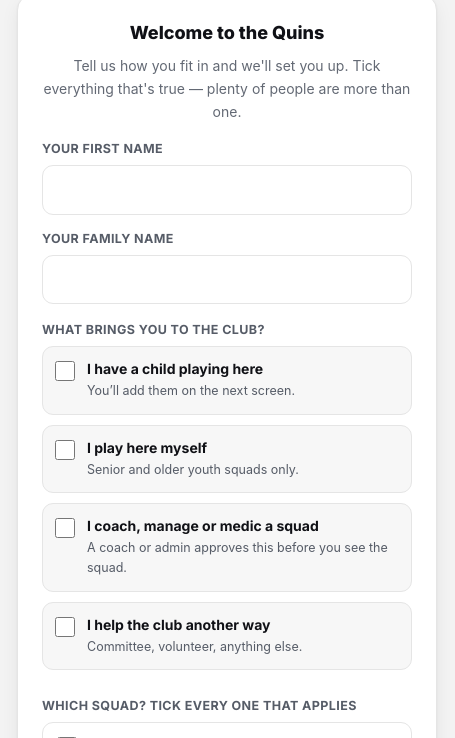
Test case: the name › requires a family name, unlike the sign-in gate
The width and height of the screenshot is (455, 738).
Click the checkbox labelled "child playing here": (65,371) [55, 361, 75, 381]
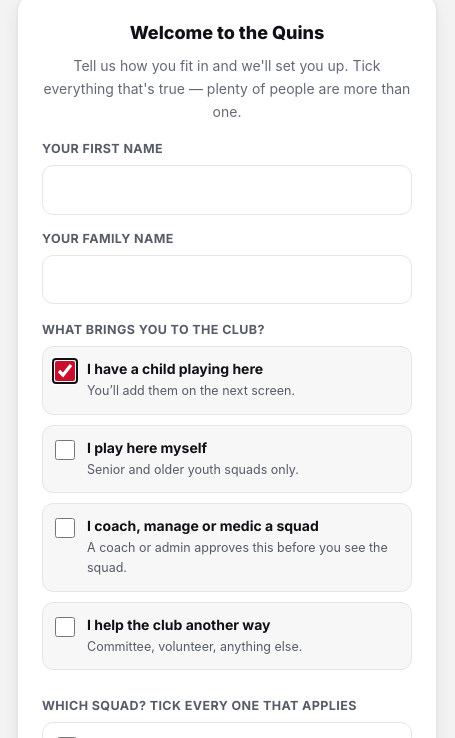
In the field labelled "Your first name": (227,190) [42, 165, 412, 215], type "Rowan"
(page scrolled)
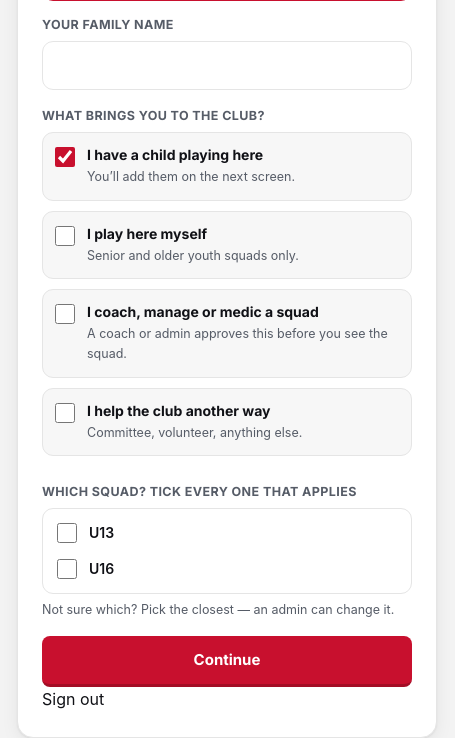
Click the checkbox labelled "U13": (67,533) [57, 523, 77, 543]
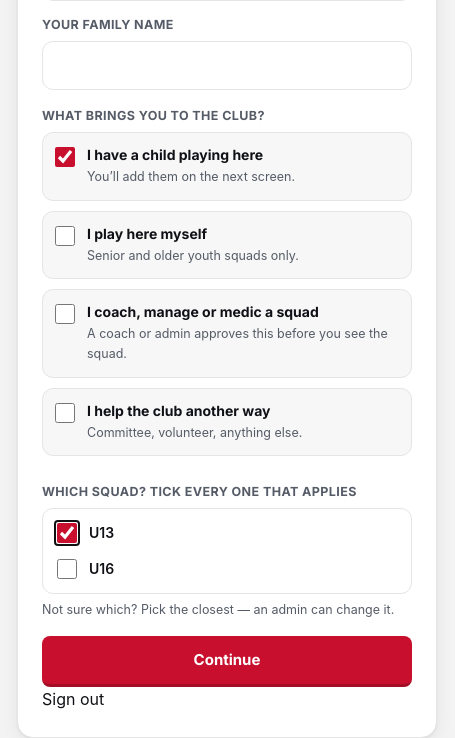
Click the button "Continue": (227,662) [42, 636, 412, 687]
(page scrolled)
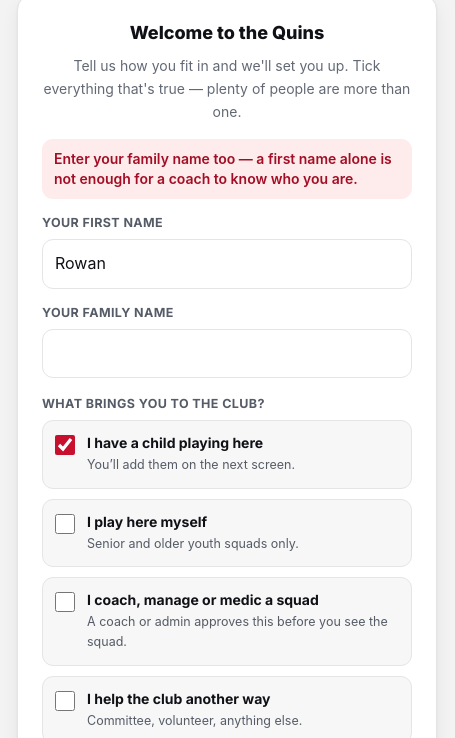
Check: the message shows "family name", box [54, 150, 392, 187]
